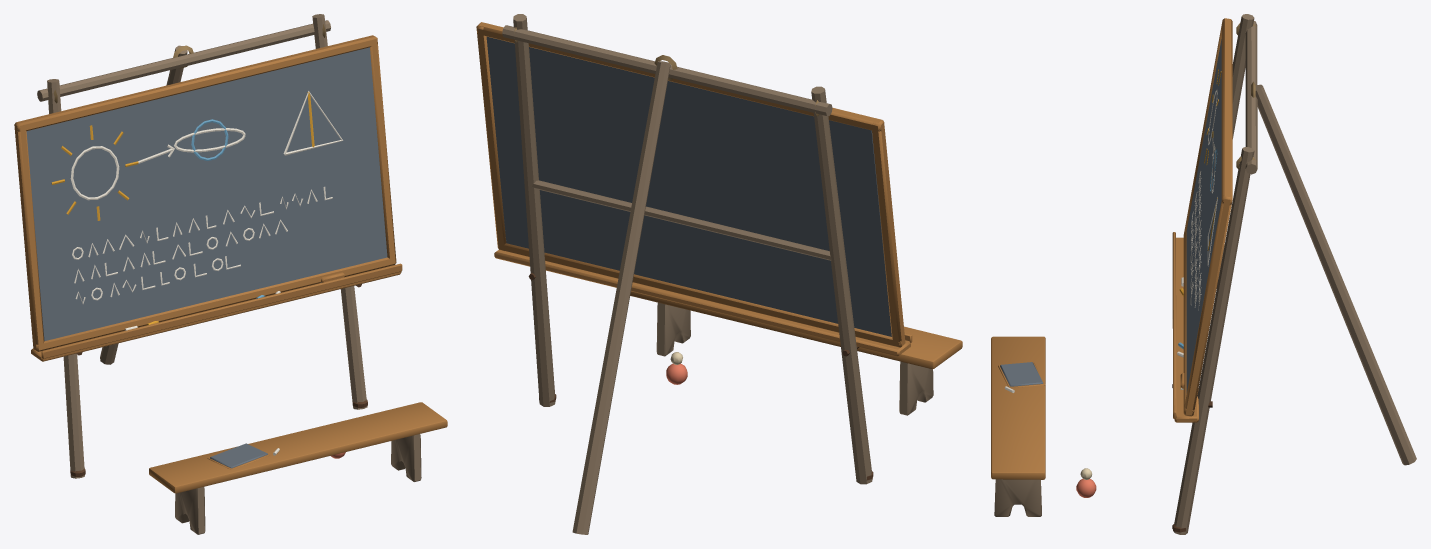
File: deco_teaching_slab.fbx
3 views of the same model, side by side, from view 1: azimuth 30°, elevation 25°; view 2: azimuth 150°, elevation 25°; view 3: azimuth 270°, elevation 25° (orthographic). The views are drawn at different scales.
Parts seen in each view (by area): view 1: TeachingSlab_Board, TeachingSlab_Easel, TeachingSlab_Bench, TeachingSlab_Chalk; view 2: TeachingSlab_Board, TeachingSlab_Easel, TeachingSlab_Bench; view 3: TeachingSlab_Easel, TeachingSlab_Board, TeachingSlab_Bench, TeachingSlab_Chalk.
Boxes of the visible parts, <box> form: TeachingSlab_Board: <box>14,35,396,351</box>; TeachingSlab_Easel: <box>31,14,402,478</box>; TeachingSlab_Bench: <box>149,402,447,534</box>; TeachingSlab_Chalk: <box>51,91,344,330</box>; TeachingSlab_Board: <box>476,22,905,347</box>; TeachingSlab_Easel: <box>494,14,912,534</box>; TeachingSlab_Bench: <box>630,291,962,415</box>; TeachingSlab_Easel: <box>1172,14,1416,534</box>; TeachingSlab_Board: <box>1183,18,1232,416</box>; TeachingSlab_Bench: <box>991,336,1096,516</box>; TeachingSlab_Chalk: <box>1177,69,1221,389</box>.
Size of the model in its own units: 250 by 247 by 250.
